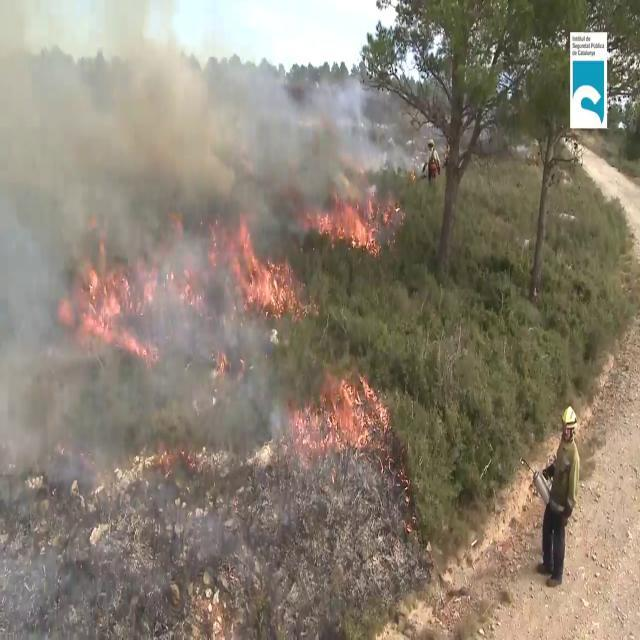Fire: (61, 226, 158, 360), (226, 214, 304, 332), (290, 366, 388, 459), (314, 183, 381, 260)
Smoke: (0, 0, 374, 451)
